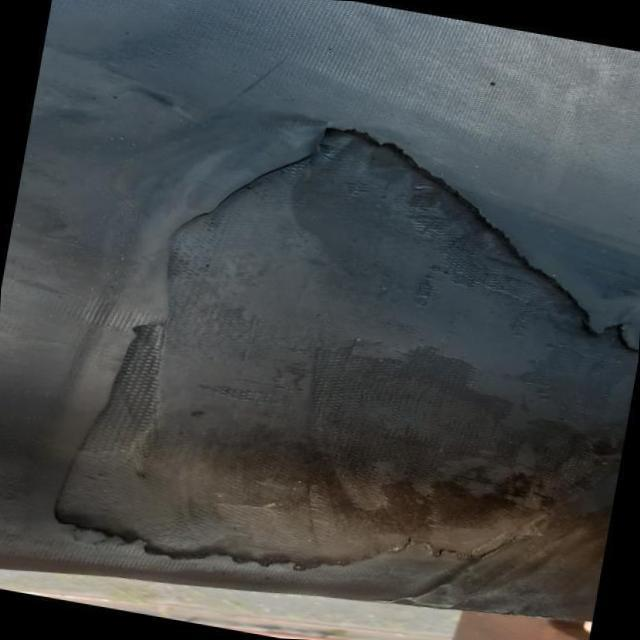Tear: (0, 110, 640, 584)
